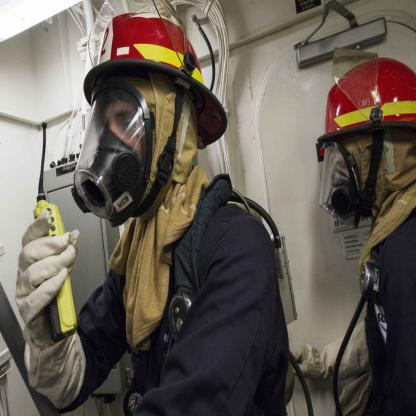Helmet: (71, 0, 230, 230), (315, 48, 416, 255)
